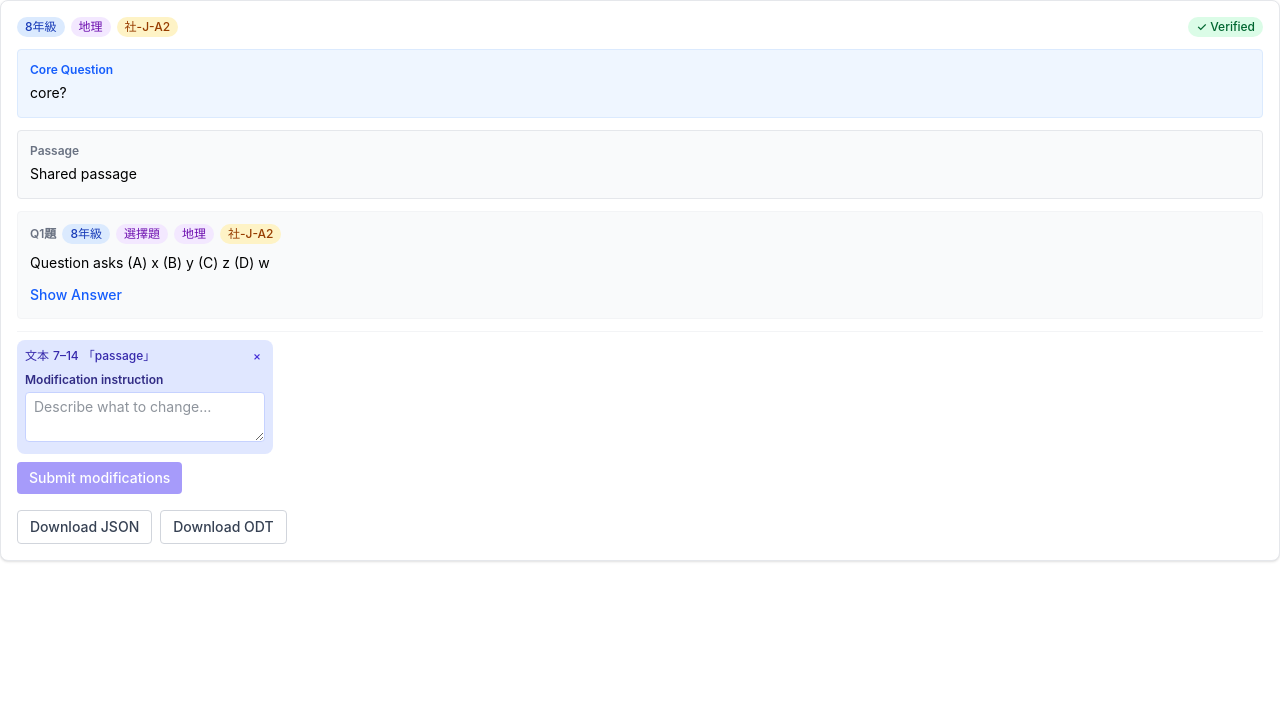
QuestionCard 圈選 capture › renders the frozen field and suggested alternative from a structured rejection
The image size is (1280, 720).
Type "Fix the passage" into the text box named "Modification instruction 1" at (145, 417), box [25, 392, 265, 442]
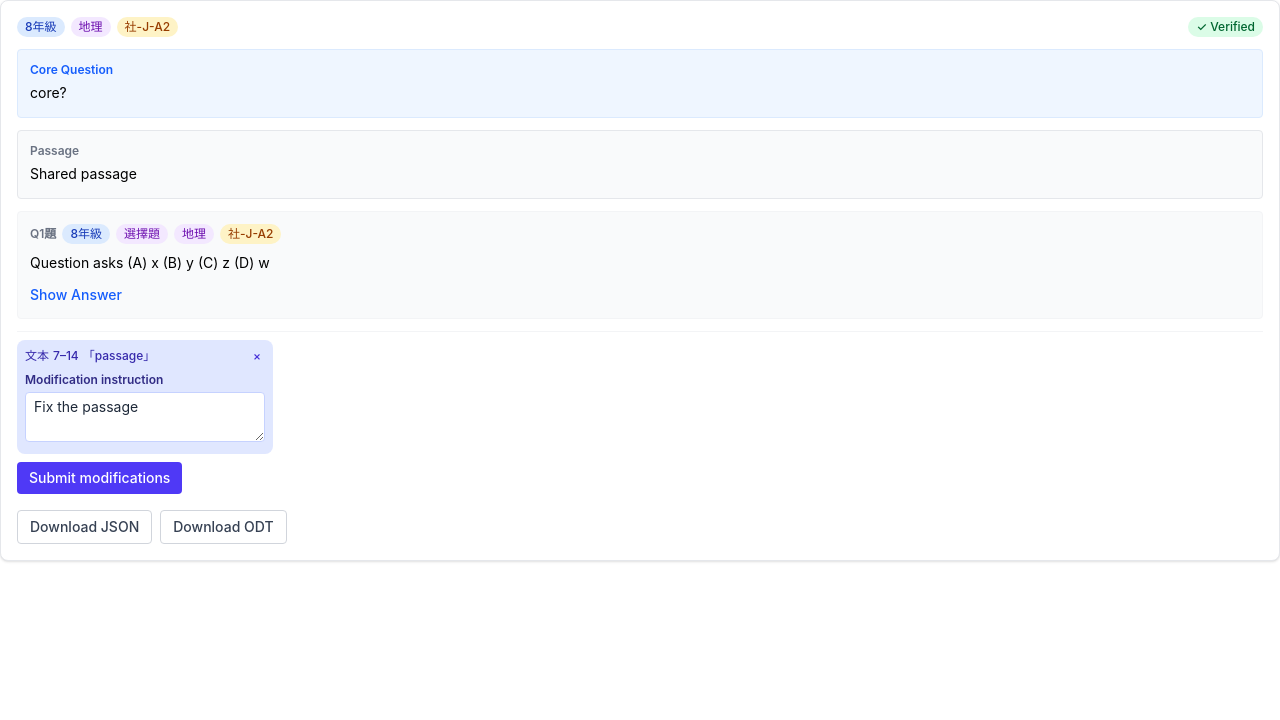
Click the button "Submit modifications" at (100, 478), box [17, 462, 182, 494]
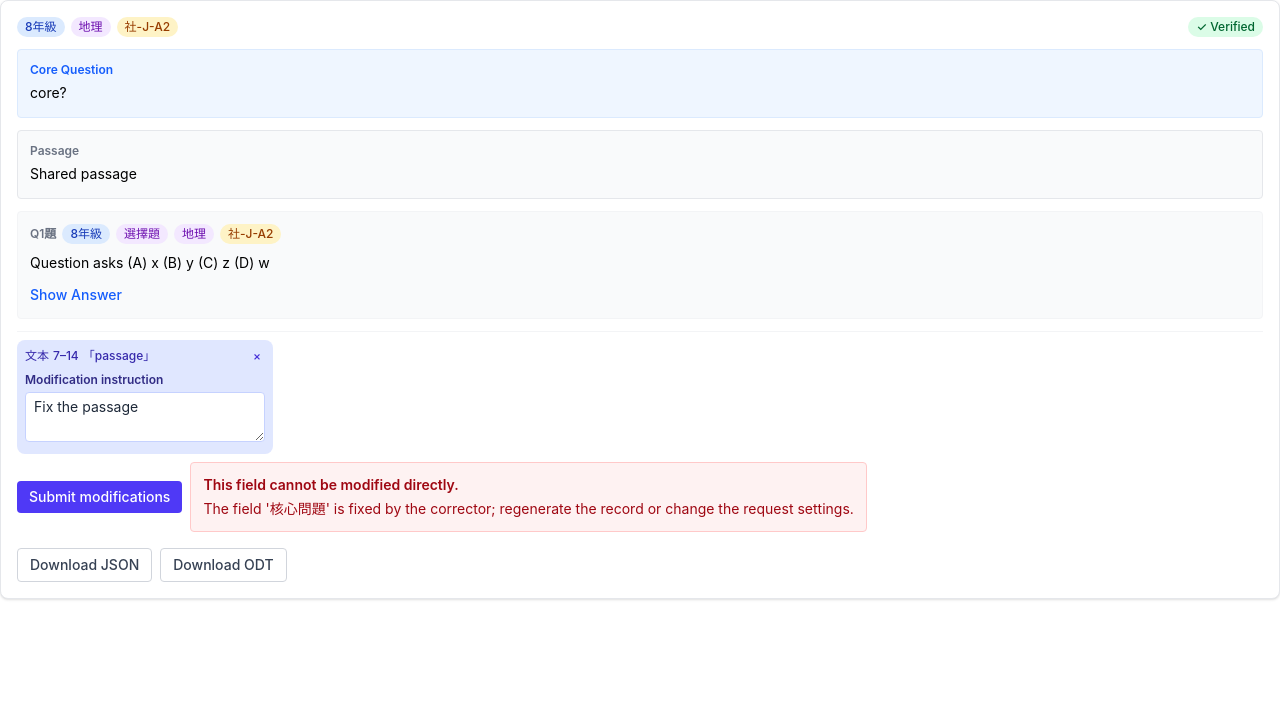
Expected: the message shows "核心問題", [203, 500, 854, 517]
Expected: the message shows "regenerate the record or change the request settings", [203, 500, 854, 517]
